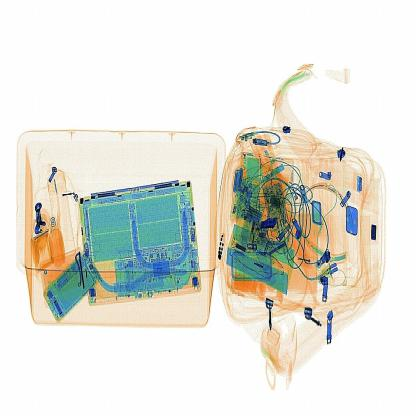knife: (256, 208, 282, 235)
